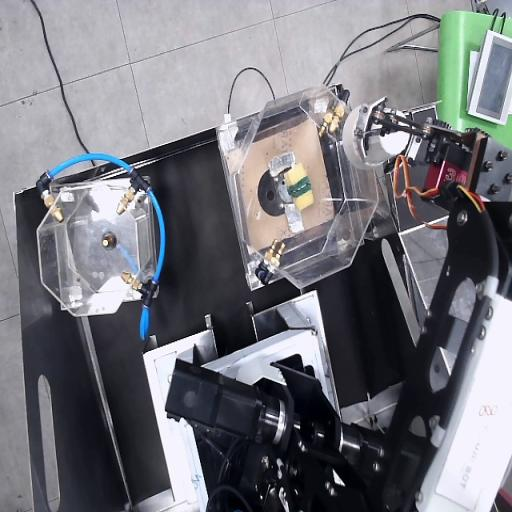cup in wash station: (343, 102, 408, 169)
